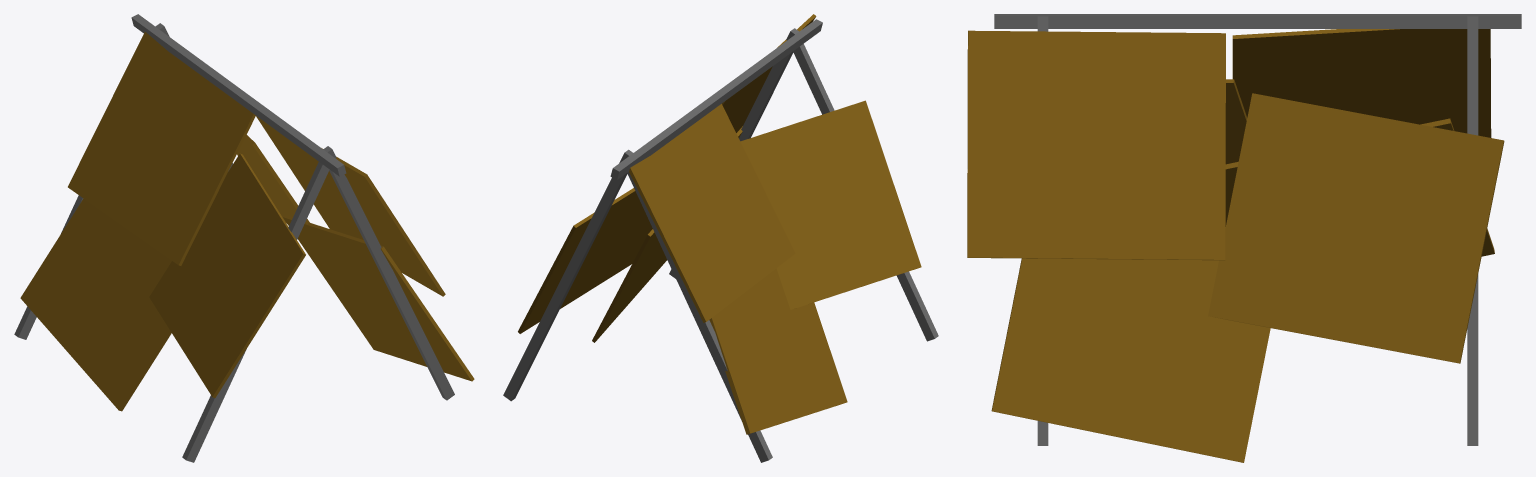
The model's file is TentA.glb.
3 renders of one model, left to right at view 1: azimuth 30°, elevation 25°; view 2: azimuth 150°, elevation 25°; view 3: azimuth 270°, elevation 25°, orthographic. The views are drawn at different scales.
Visible parts, largest first — view 1: Plane.009, Plane; view 2: Plane.009, Plane; view 3: Plane.009, Plane.
Part boxes in pixels (<box>): Plane.009: <box>20,32,474,411</box>; Plane: <box>14,14,454,462</box>; Plane.009: <box>518,14,921,434</box>; Plane: <box>503,19,938,462</box>; Plane.009: <box>967,29,1504,462</box>; Plane: <box>994,14,1521,445</box>.
Bounding box in the file's own units: 1.86 × 1.9 × 2.58.
